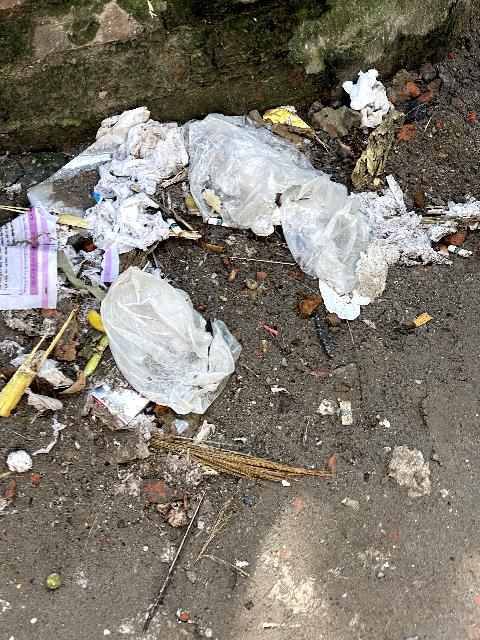polythene: (34, 132, 416, 403)
